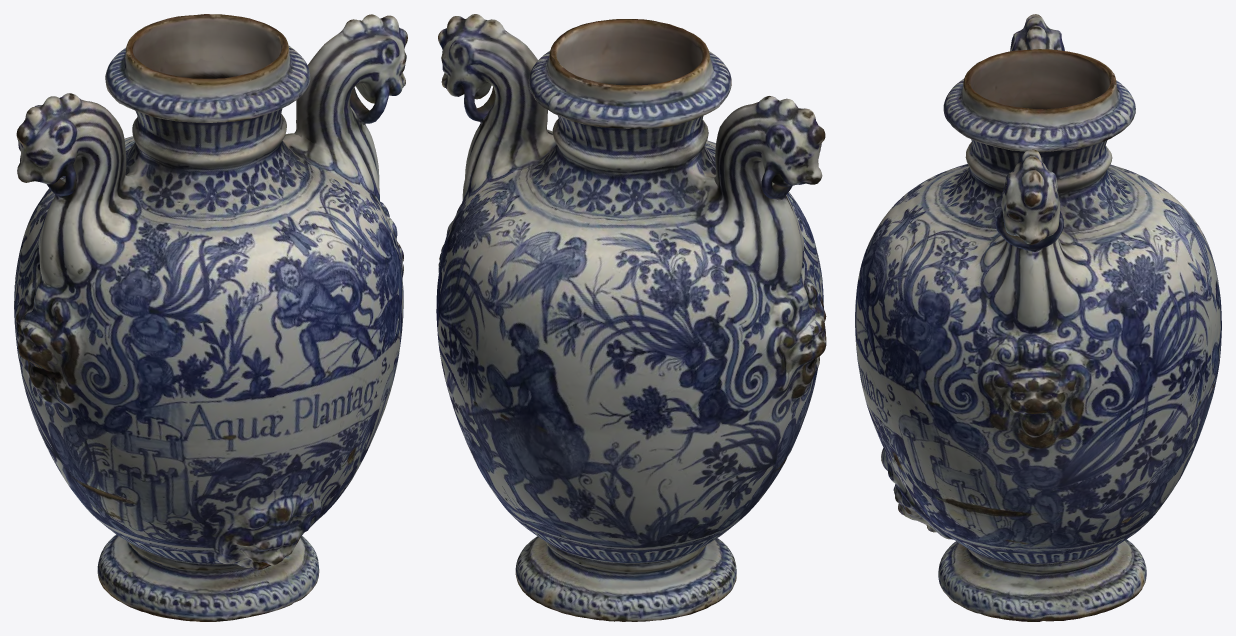
File: hydria_apothecary_vase-transformed.glb
The picture shows the model from 3 angles, left to right: view 1: azimuth 30°, elevation 25°; view 2: azimuth 150°, elevation 25°; view 3: azimuth 270°, elevation 25°; orthographic projection. The views are drawn at different scales.
Visible parts, largest first — view 1: Object_3; view 2: Object_3; view 3: Object_3.
Part boxes in pixels (box(x1,y1,x2,y2)): Object_3: box(14, 14, 407, 621); Object_3: box(436, 14, 826, 621); Object_3: box(855, 14, 1221, 621).
Bounding box in the file's own units: 327 × 429 × 284.
1 material, 1 textured.
